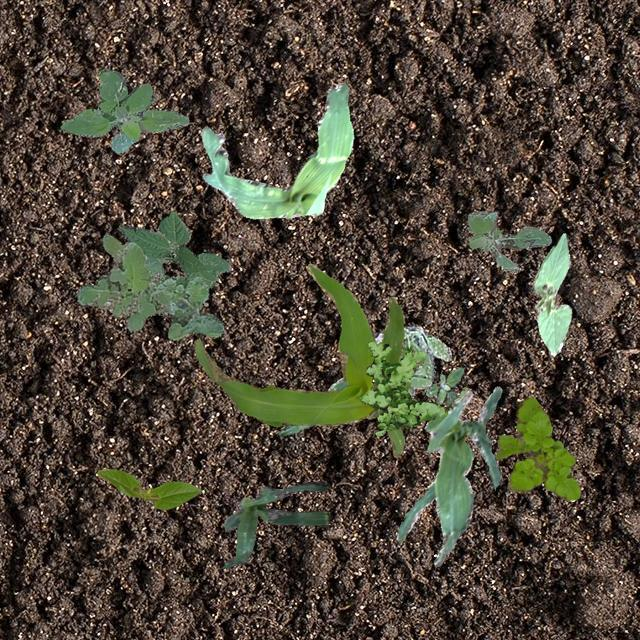crop: (192, 263, 408, 457), (200, 80, 352, 218), (396, 386, 500, 566), (222, 481, 328, 566), (117, 210, 230, 288), (532, 232, 570, 354), (278, 376, 348, 436), (96, 468, 200, 508)
weed: (76, 234, 222, 338), (60, 67, 188, 152), (358, 340, 468, 434), (494, 396, 580, 498), (372, 326, 450, 398), (466, 210, 550, 272), (426, 366, 462, 406)
